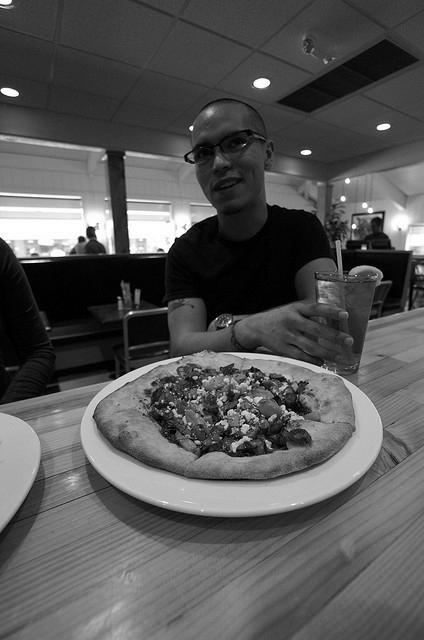glass: (315, 266, 382, 375)
